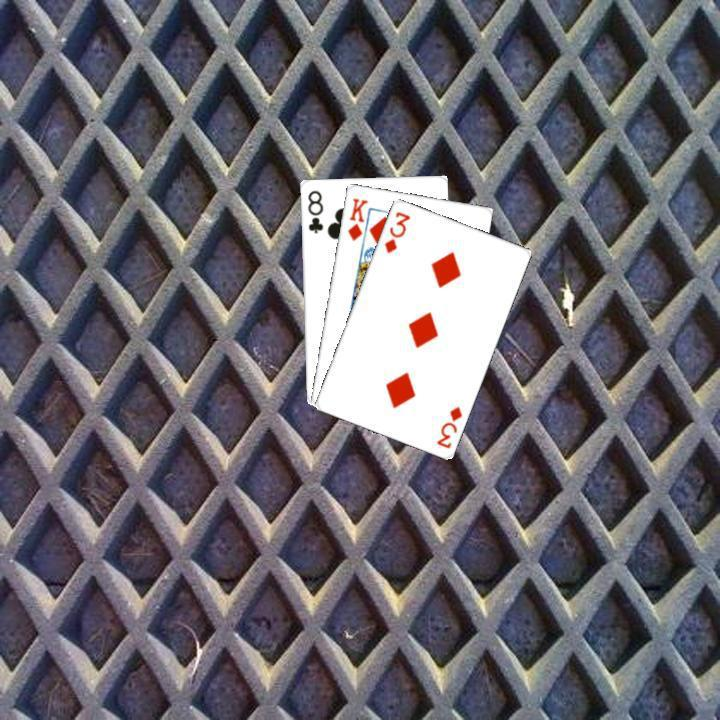3: (380, 207, 412, 255), (432, 402, 464, 450)
8: (303, 186, 325, 235)
K: (343, 193, 369, 243)
